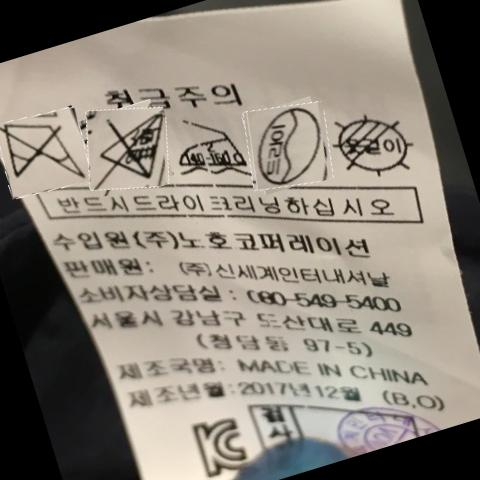DN_wash: (6, 109, 82, 190)
dry_clean: (256, 108, 329, 186)
iron_medium: (175, 122, 251, 184)
line_dry_in_shade: (332, 117, 416, 178)
non_chlorine_bleach: (96, 110, 166, 190)
